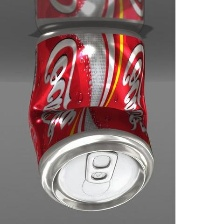can: (26, 26, 152, 214), (32, 0, 150, 34)
